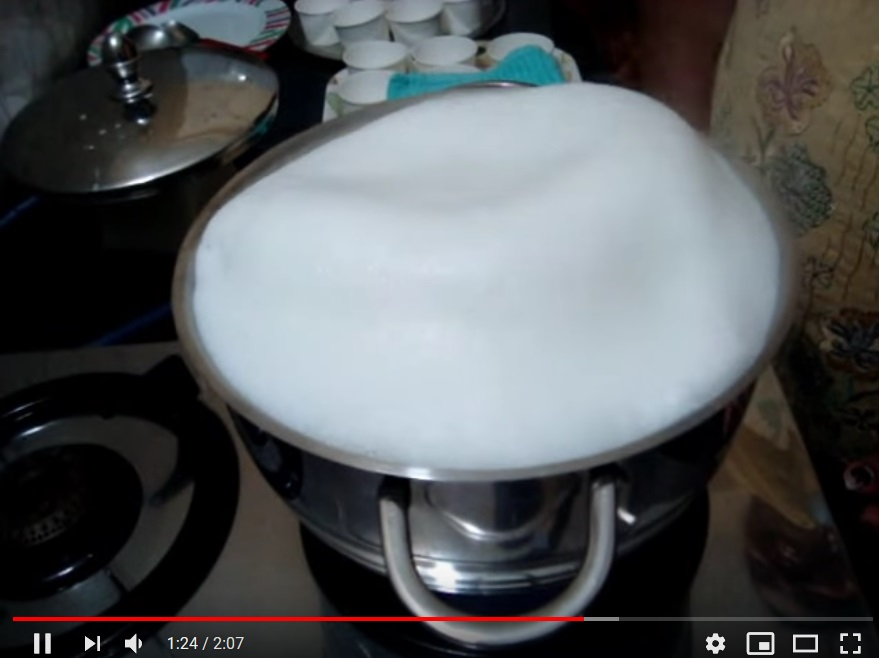Boiled: (184, 73, 813, 513)
